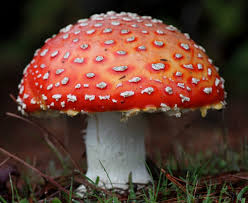Amanita muscaria: (6, 5, 235, 181)
